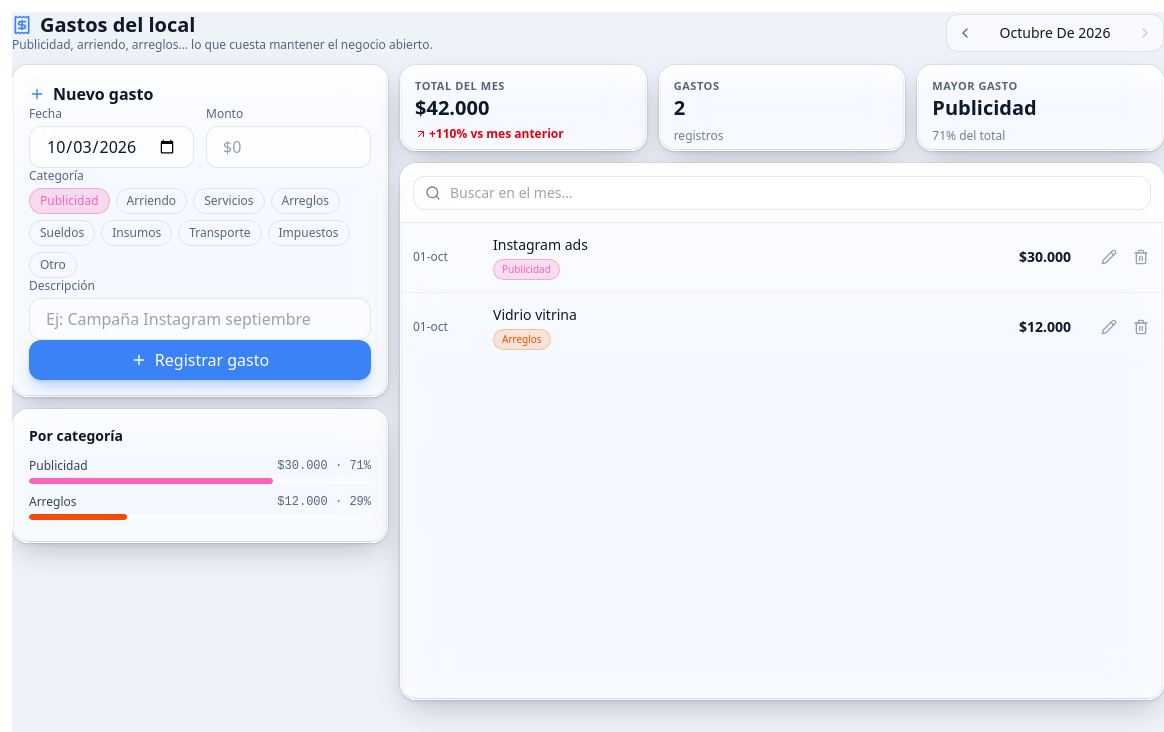
Gastos › filtra por categoría (desglose) y por texto
Expected: the text "Instagram ads" is shown, [493, 234, 588, 254]
Click the button "Arreglos $12.000 · 29%" at (53, 502), box [29, 494, 371, 520]
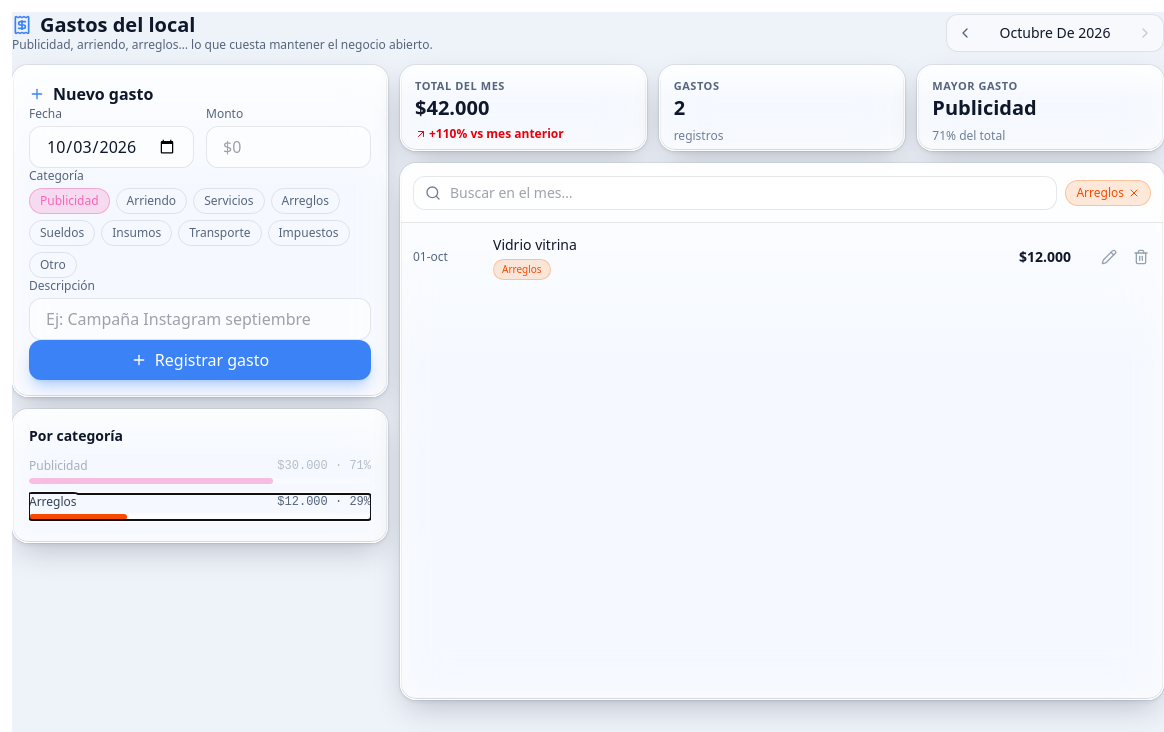
Expected: the text "Vidrio vitrina" is shown, [493, 234, 577, 254]
Expected: the text "Instagram ads" is gone
Click the button "Arreglos" at (1108, 192), box [1065, 180, 1151, 206]
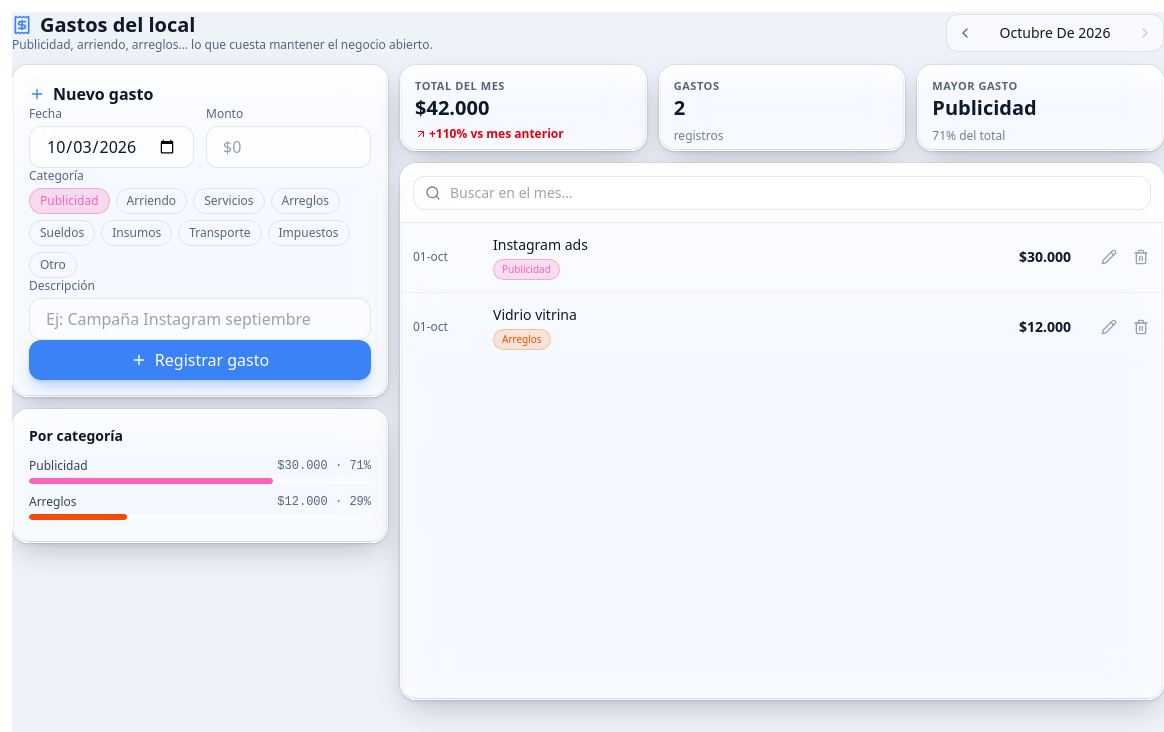
Type "insta" into the field with placeholder "Buscar en el mes…" at (782, 192), box [413, 176, 1151, 210]
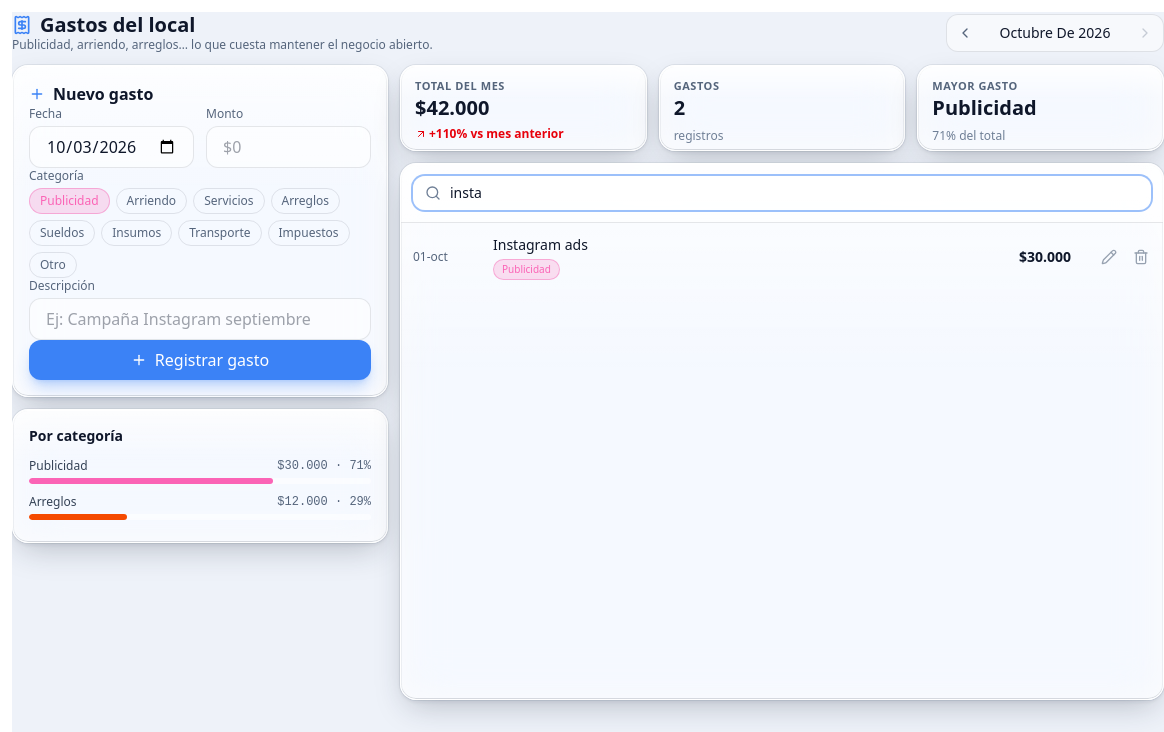
Expected: the text "Instagram ads" is shown, [493, 234, 588, 254]
Expected: the text "Vidrio vitrina" is gone
